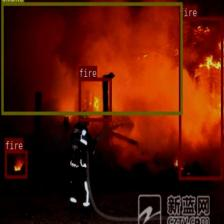fire: (179, 17, 223, 179), (79, 77, 111, 121), (4, 150, 27, 178)
smoke: (1, 1, 182, 115)
